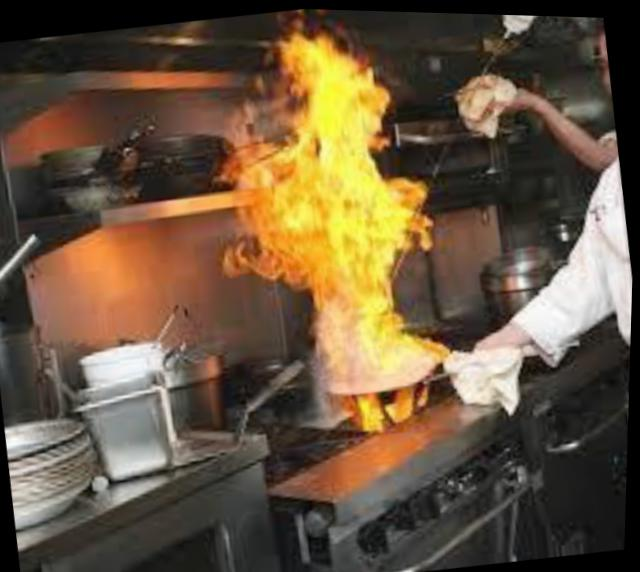fire: (202, 22, 468, 451)
